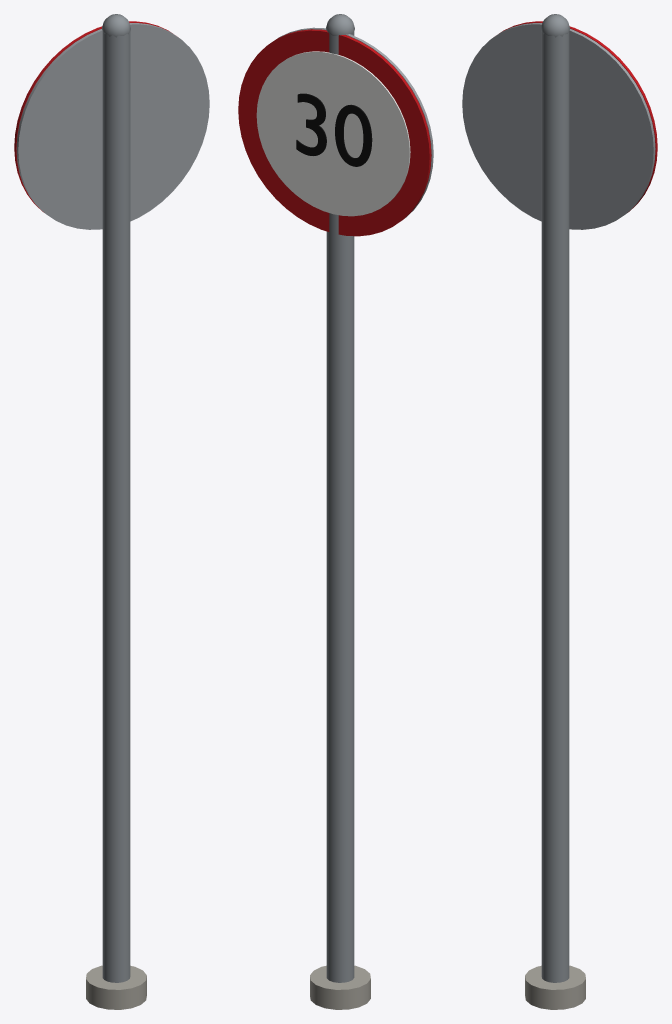
File: Sign_Speed30.fbx
3 renders of one model, left to right at view 1: azimuth 30°, elevation 25°; view 2: azimuth 150°, elevation 25°; view 3: azimuth 330°, elevation 25°, orthographic.
Parts seen in each view (by area): view 1: Sign_Speed30_Mesh; view 2: Sign_Speed30_Mesh; view 3: Sign_Speed30_Mesh.
Boxes of the visible parts, x1,y1,x2,y2 form: Sign_Speed30_Mesh: (14, 14, 209, 1009); Sign_Speed30_Mesh: (238, 14, 433, 1009); Sign_Speed30_Mesh: (462, 14, 657, 1009).
Size of the model in its own units: 0.6 by 2.94 by 0.1672.
